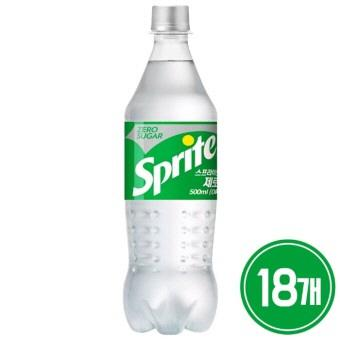sprite_zero: (110, 5, 228, 334)
